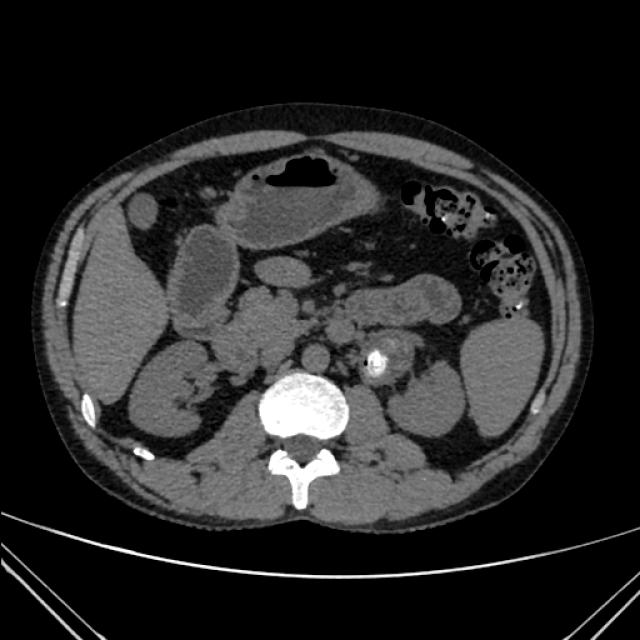kidneystone: (366, 350, 389, 378)
